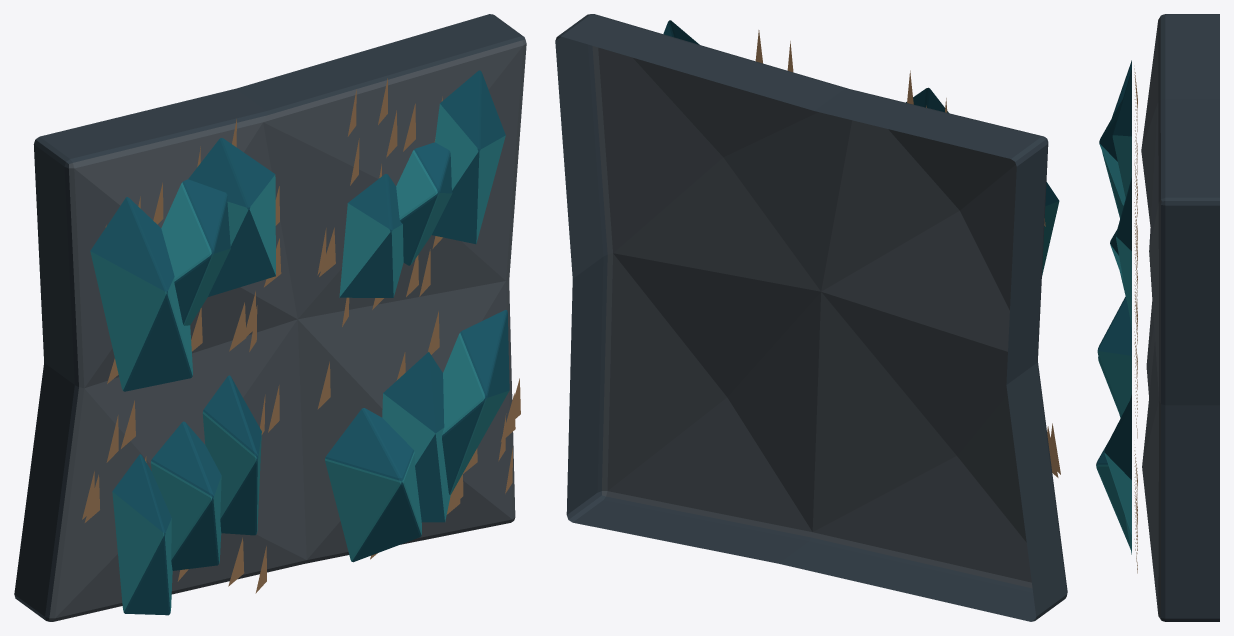
The model's file is Board_shield.fbx.
The picture shows the model from 3 angles, left to right: view 1: azimuth 30°, elevation 25°; view 2: azimuth 150°, elevation 25°; view 3: azimuth 270°, elevation 25°; orthographic projection. The views are drawn at different scales.
Parts seen in each view (by area): view 1: Art_shield_stone, Art_shield_mineral_0_0, Art_shield_mineral_3_0, Art_shield_mineral_3_2, Art_shield_mineral_1_2, Art_shield_mineral_0_2, Art_shield_mineral_2_0, Art_shield_mineral_2_1, Art_shield_mineral_0_1, Art_shield_mineral_3_1, Art_shield_mineral_2_2, Art_shield_mineral_1_0 (+1 smaller); view 2: Art_shield_stone, Art_shield_mineral_0_0; view 3: Art_shield_stone, Art_shield_mineral_2_2, Art_shield_mineral_3_2, Art_shield_mineral_0_2, Art_shield_mineral_1_2, Art_shield_mineral_0_1, Art_shield_mineral_3_0, Art_shield_mineral_0_0, Art_shield_mineral_1_1.
Boxes of the visible parts, x1=… form: Art_shield_stone: x1=14, y1=14, x2=526, y2=621; Art_shield_mineral_0_0: x1=90, y1=197, x2=192, y2=391; Art_shield_mineral_3_0: x1=325, y1=408, x2=421, y2=562; Art_shield_mineral_3_2: x1=442, y1=310, x2=509, y2=494; Art_shield_mineral_1_2: x1=432, y1=70, x2=505, y2=244; Art_shield_mineral_0_2: x1=188, y1=138, x2=275, y2=296; Art_shield_mineral_2_0: x1=112, y1=454, x2=172, y2=615; Art_shield_mineral_2_1: x1=150, y1=421, x2=221, y2=570; Art_shield_mineral_0_1: x1=161, y1=179, x2=230, y2=325; Art_shield_mineral_3_1: x1=382, y1=352, x2=450, y2=522; Art_shield_mineral_2_2: x1=202, y1=375, x2=261, y2=535; Art_shield_mineral_1_0: x1=339, y1=174, x2=403, y2=297; Art_shield_stone: x1=555, y1=14, x2=1067, y2=621; Art_shield_mineral_0_0: x1=1042, y1=182, x2=1059, y2=275; Art_shield_stone: x1=1141, y1=14, x2=1219, y2=621; Art_shield_mineral_2_2: x1=1097, y1=297, x2=1131, y2=416; Art_shield_mineral_3_2: x1=1104, y1=397, x2=1131, y2=534; Art_shield_mineral_0_2: x1=1112, y1=69, x2=1131, y2=197; Art_shield_mineral_1_2: x1=1116, y1=177, x2=1131, y2=328; Art_shield_mineral_0_1: x1=1099, y1=99, x2=1125, y2=205; Art_shield_mineral_3_0: x1=1096, y1=441, x2=1130, y2=549; Art_shield_mineral_0_0: x1=1102, y1=60, x2=1131, y2=218; Art_shield_mineral_1_1: x1=1110, y1=229, x2=1123, y2=281.
Size of the model in its own units: 207 by 203 by 52.08.
